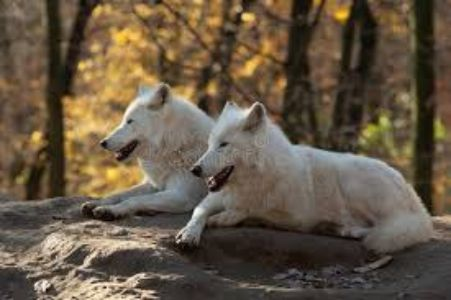wolf: (188, 97, 420, 258), (91, 74, 202, 231)
